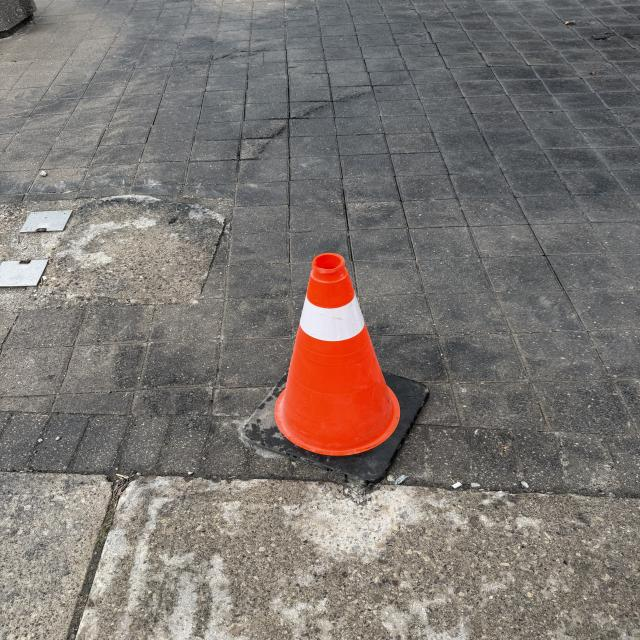Traffic Cone: (240, 252, 429, 485)
